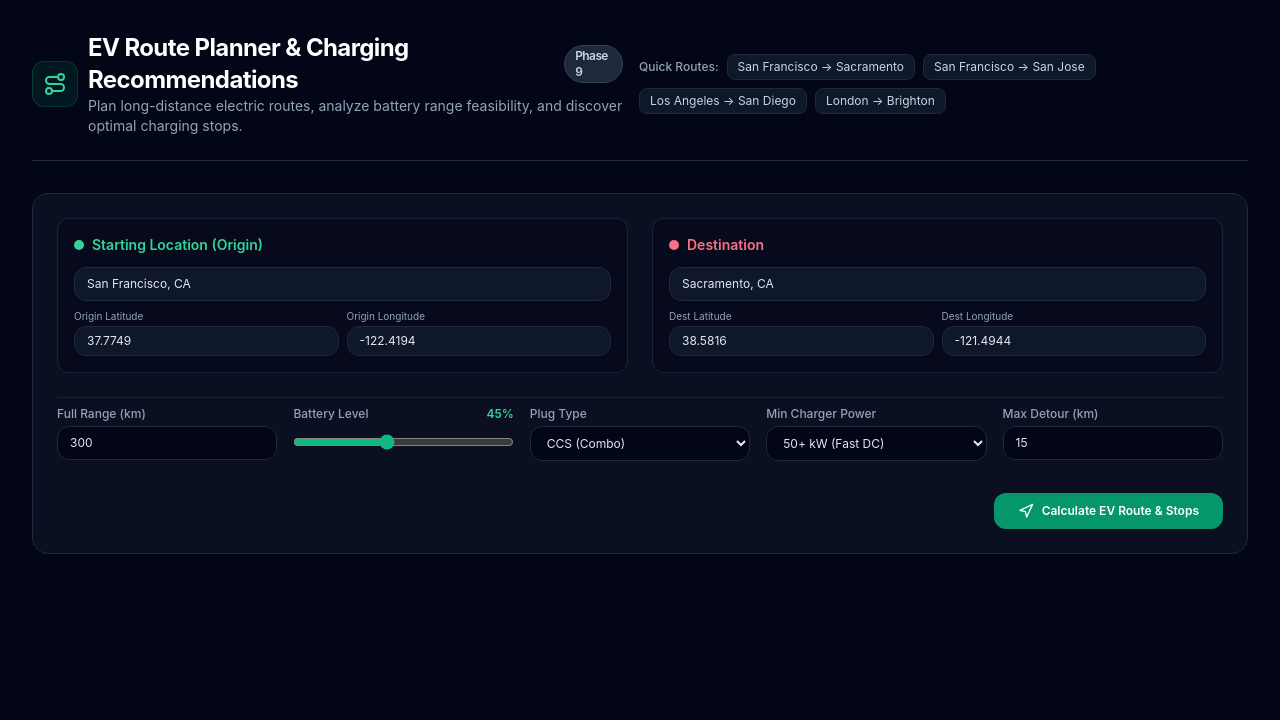
Scenario: Phase 9: Route Planning & Charging Stop Recommendations › RoutePlannerPage UI Component › displays error banner when provider fails
Click the button "Calculate EV Route & Stops" at (1108, 511), box [994,493,1223,529]
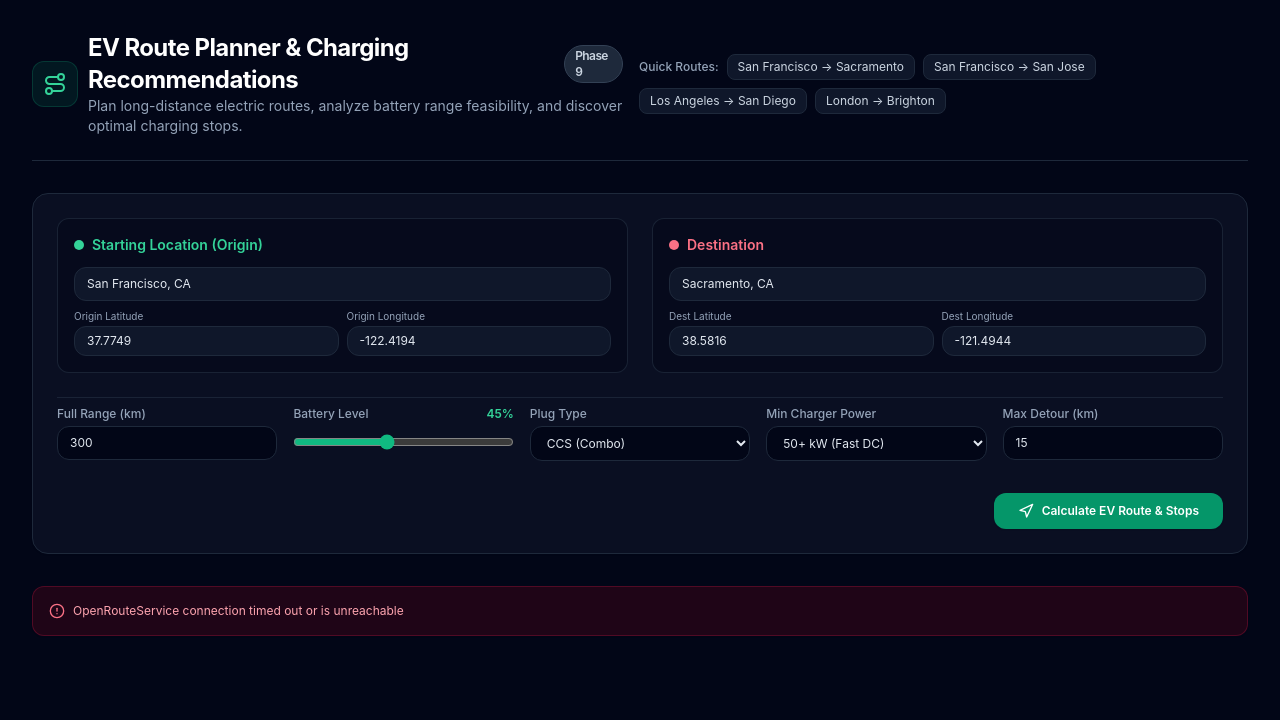
Check: the text "OpenRouteService connection timed out or is unreachable" is shown, box [73,603,404,619]
